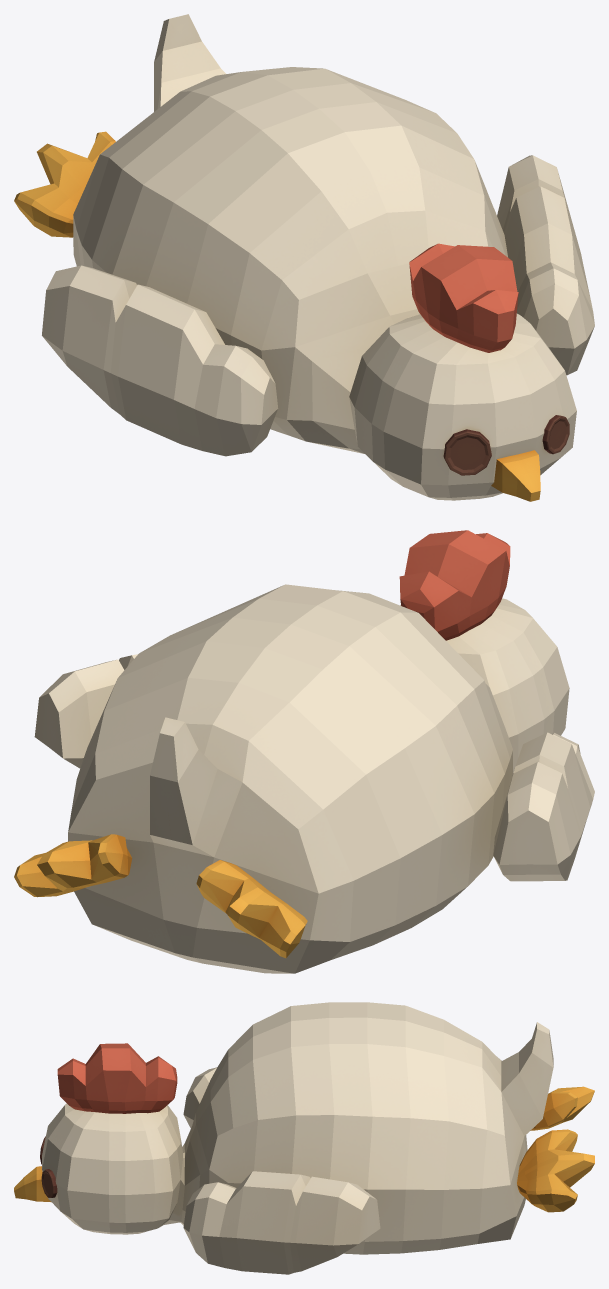
Rendered from chicken_whole.fbx.
The picture shows the model from 3 angles, top to bottom: view 1: azimuth 30°, elevation 25°; view 2: azimuth 150°, elevation 25°; view 3: azimuth 270°, elevation 25°; orthographic projection. The views are drawn at different scales.
Visible parts, largest first — view 1: chicken_whole; view 2: chicken_whole; view 3: chicken_whole.
Part boxes in pixels (x1=…): chicken_whole: x1=14, y1=14, x2=594, y2=501; chicken_whole: x1=14, y1=530, x2=594, y2=973; chicken_whole: x1=14, y1=1002, x2=594, y2=1274.
Bounding box in the file's own units: 556 × 273 × 730.
1 material, 1 textured.
